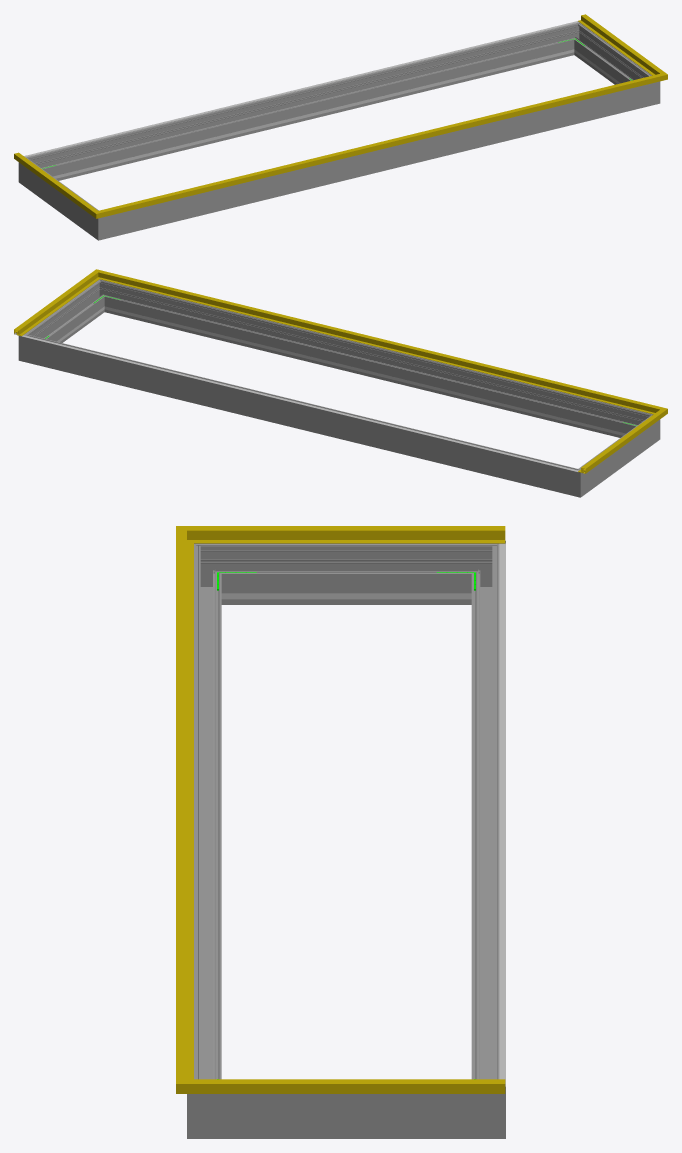
3 views of the same model, one above another, from view 1: azimuth 30°, elevation 25°; view 2: azimuth 150°, elevation 25°; view 3: azimuth 270°, elevation 25° (orthographic). The views are drawn at different scales.
Parts seen in each view (by area): view 1: 3DGeom-276, 3DGeom-298, 3DGeom-123, 3DGeom-297, 3DGeom-244, 3DGeom-268, 3DGeom-220, 3DGeom-128, 3DGeom-118, 3DGeom-270, 3DGeom-290, 3DGeom-284; view 2: 3DGeom-298, 3DGeom-276, 3DGeom-123, 3DGeom-297, 3DGeom-239, 3DGeom-268, 3DGeom-220, 3DGeom-128, 3DGeom-118, 3DGeom-278, 3DGeom-284, 3DGeom-290; view 3: 3DGeom-276, 3DGeom-298, 3DGeom-268, 3DGeom-297, 3DGeom-123, 3DGeom-118, 3DGeom-128, 3DGeom-220, 3DGeom-284, 3DGeom-290, 3DGeom-278, 3DGeom-270 (+1 smaller).
Part boxes in pixels (x1,y1,x2,y2): 3DGeom-276: [38, 26, 571, 180]; 3DGeom-298: [116, 85, 642, 236]; 3DGeom-123: [112, 77, 649, 214]; 3DGeom-297: [576, 28, 646, 84]; 3DGeom-244: [59, 53, 556, 177]; 3DGeom-268: [29, 163, 93, 232]; 3DGeom-220: [24, 21, 578, 157]; 3DGeom-128: [578, 14, 656, 73]; 3DGeom-118: [14, 152, 90, 210]; 3DGeom-270: [88, 207, 116, 240]; 3DGeom-290: [642, 72, 660, 107]; 3DGeom-284: [564, 22, 587, 55]; 3DGeom-298: [107, 283, 640, 437]; 3DGeom-276: [36, 337, 565, 493]; 3DGeom-123: [109, 273, 649, 412]; 3DGeom-297: [32, 285, 102, 342]; 3DGeom-239: [122, 310, 619, 434]; 3DGeom-268: [585, 420, 649, 489]; 3DGeom-220: [22, 335, 578, 471]; 3DGeom-128: [14, 277, 93, 336]; 3DGeom-118: [578, 415, 657, 473]; 3DGeom-278: [562, 464, 590, 497]; 3DGeom-284: [18, 329, 39, 364]; 3DGeom-290: [91, 279, 114, 312]; 3DGeom-276: [471, 558, 499, 1079]; 3DGeom-298: [194, 558, 221, 1079]; 3DGeom-268: [228, 543, 464, 604]; 3DGeom-297: [228, 1094, 464, 1138]; 3DGeom-123: [176, 543, 193, 1075]; 3DGeom-118: [217, 526, 505, 543]; 3DGeom-128: [217, 1079, 505, 1093]; 3DGeom-220: [499, 543, 505, 1086]; 3DGeom-284: [464, 1071, 505, 1138]; 3DGeom-290: [187, 1071, 228, 1138]; 3DGeom-278: [464, 540, 505, 604]; 3DGeom-270: [194, 543, 228, 604].
Bounding box in the file's own units: 4.88 × 0.2434 × 1.22.
